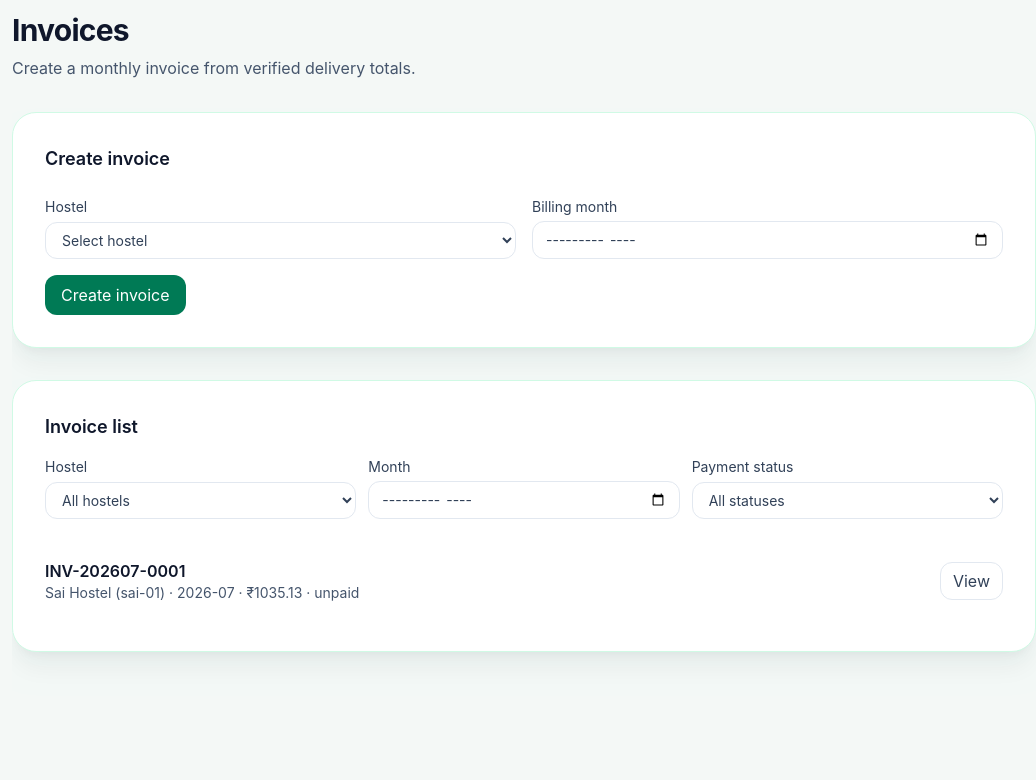
Scenario: InvoicesPage › shows the server error when the month has no deliveries
Select "Sai Hostel (sai-01)" in the dropdown labelled "Hostel" below "Billing month" at (280, 240), box [45, 222, 516, 259]
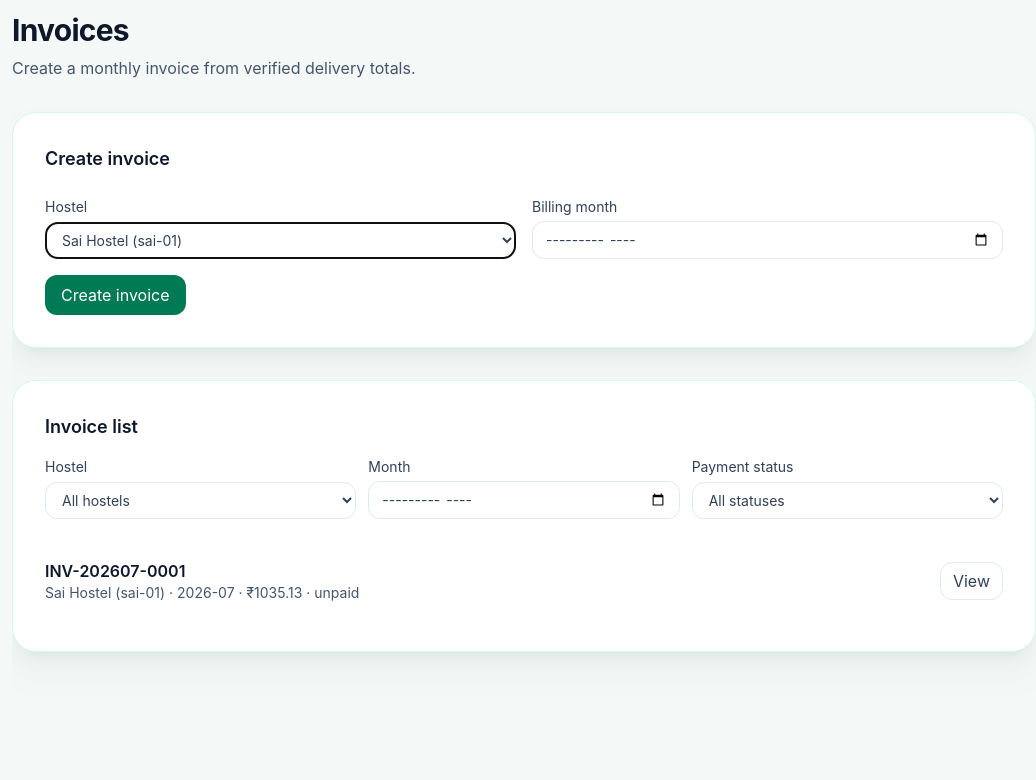
Type "2026-08" into the field labelled "Billing month" at (768, 240), box [532, 221, 1003, 259]
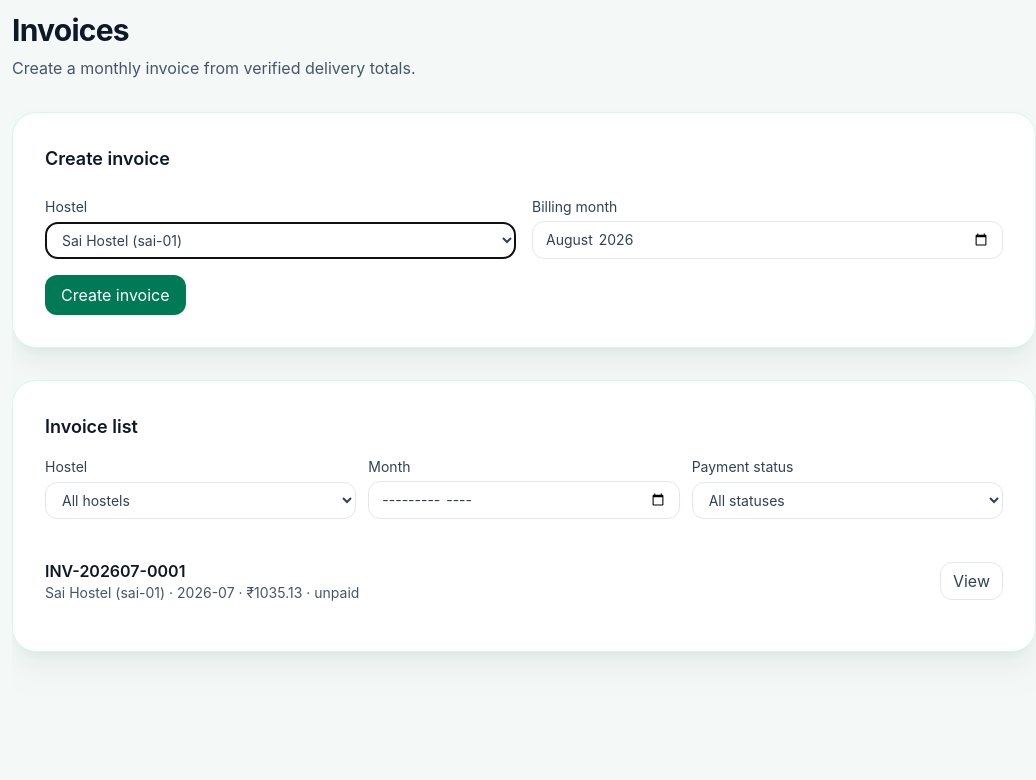
Click the button "Create invoice" at (115, 295), box [45, 275, 186, 315]
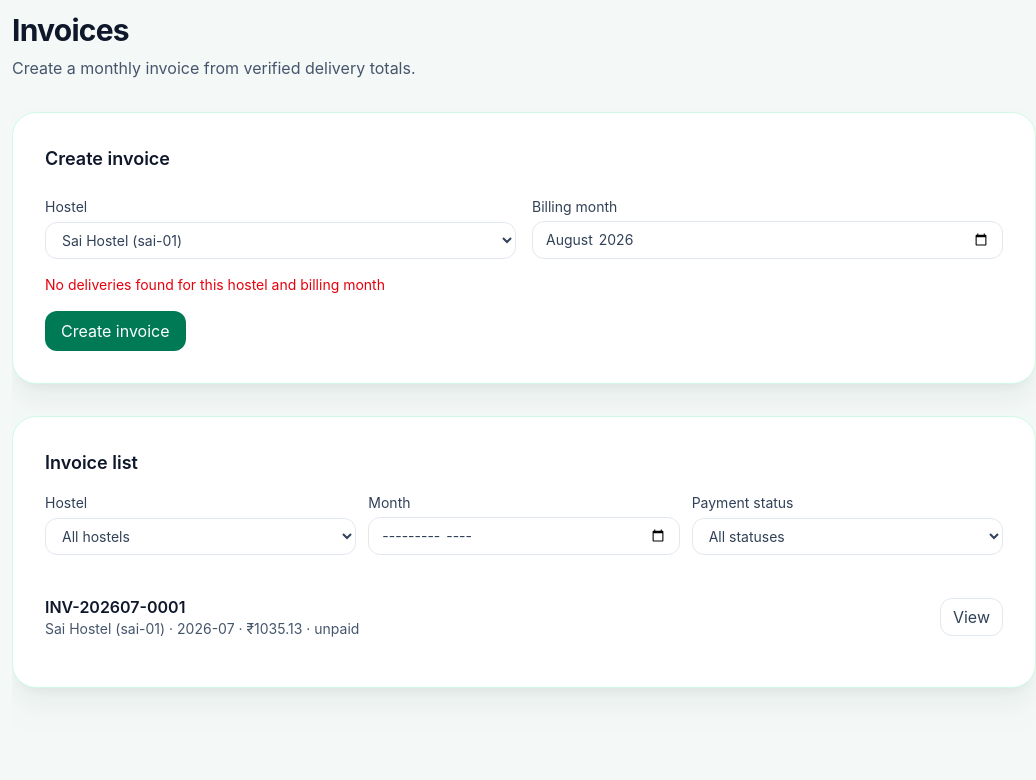
Check: the text "No deliveries found for this hostel and billing month" is shown, box [45, 276, 385, 293]
